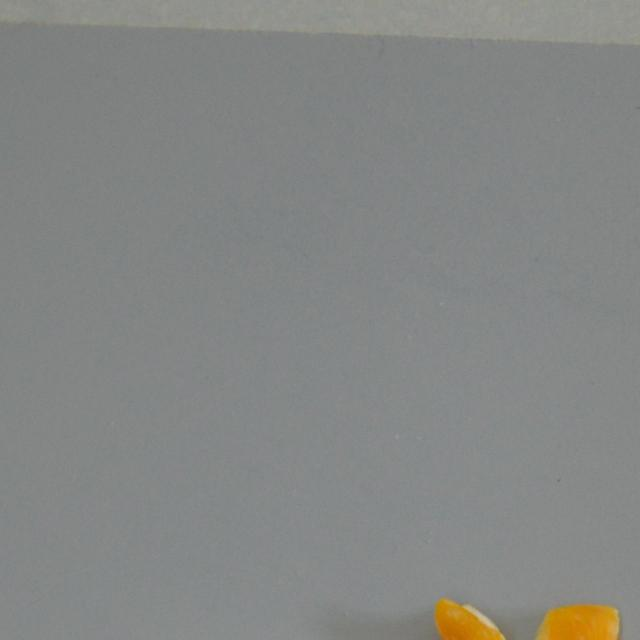no_canjicado: (524, 604, 620, 640)
pelicula: (433, 597, 506, 640)
